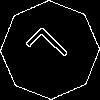L: (25, 25, 77, 77)
